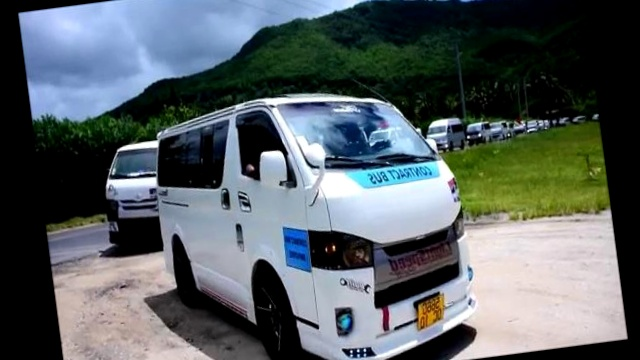van: (137, 68, 487, 360)
